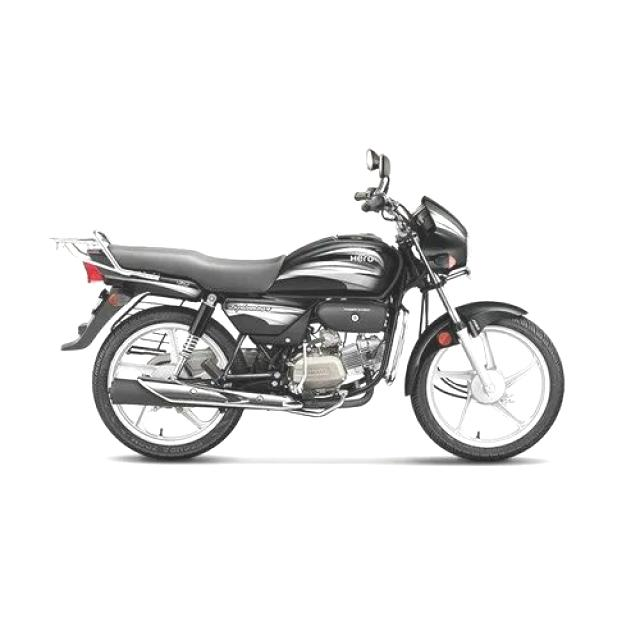MOTORCYCLE: (60, 195, 561, 460)
